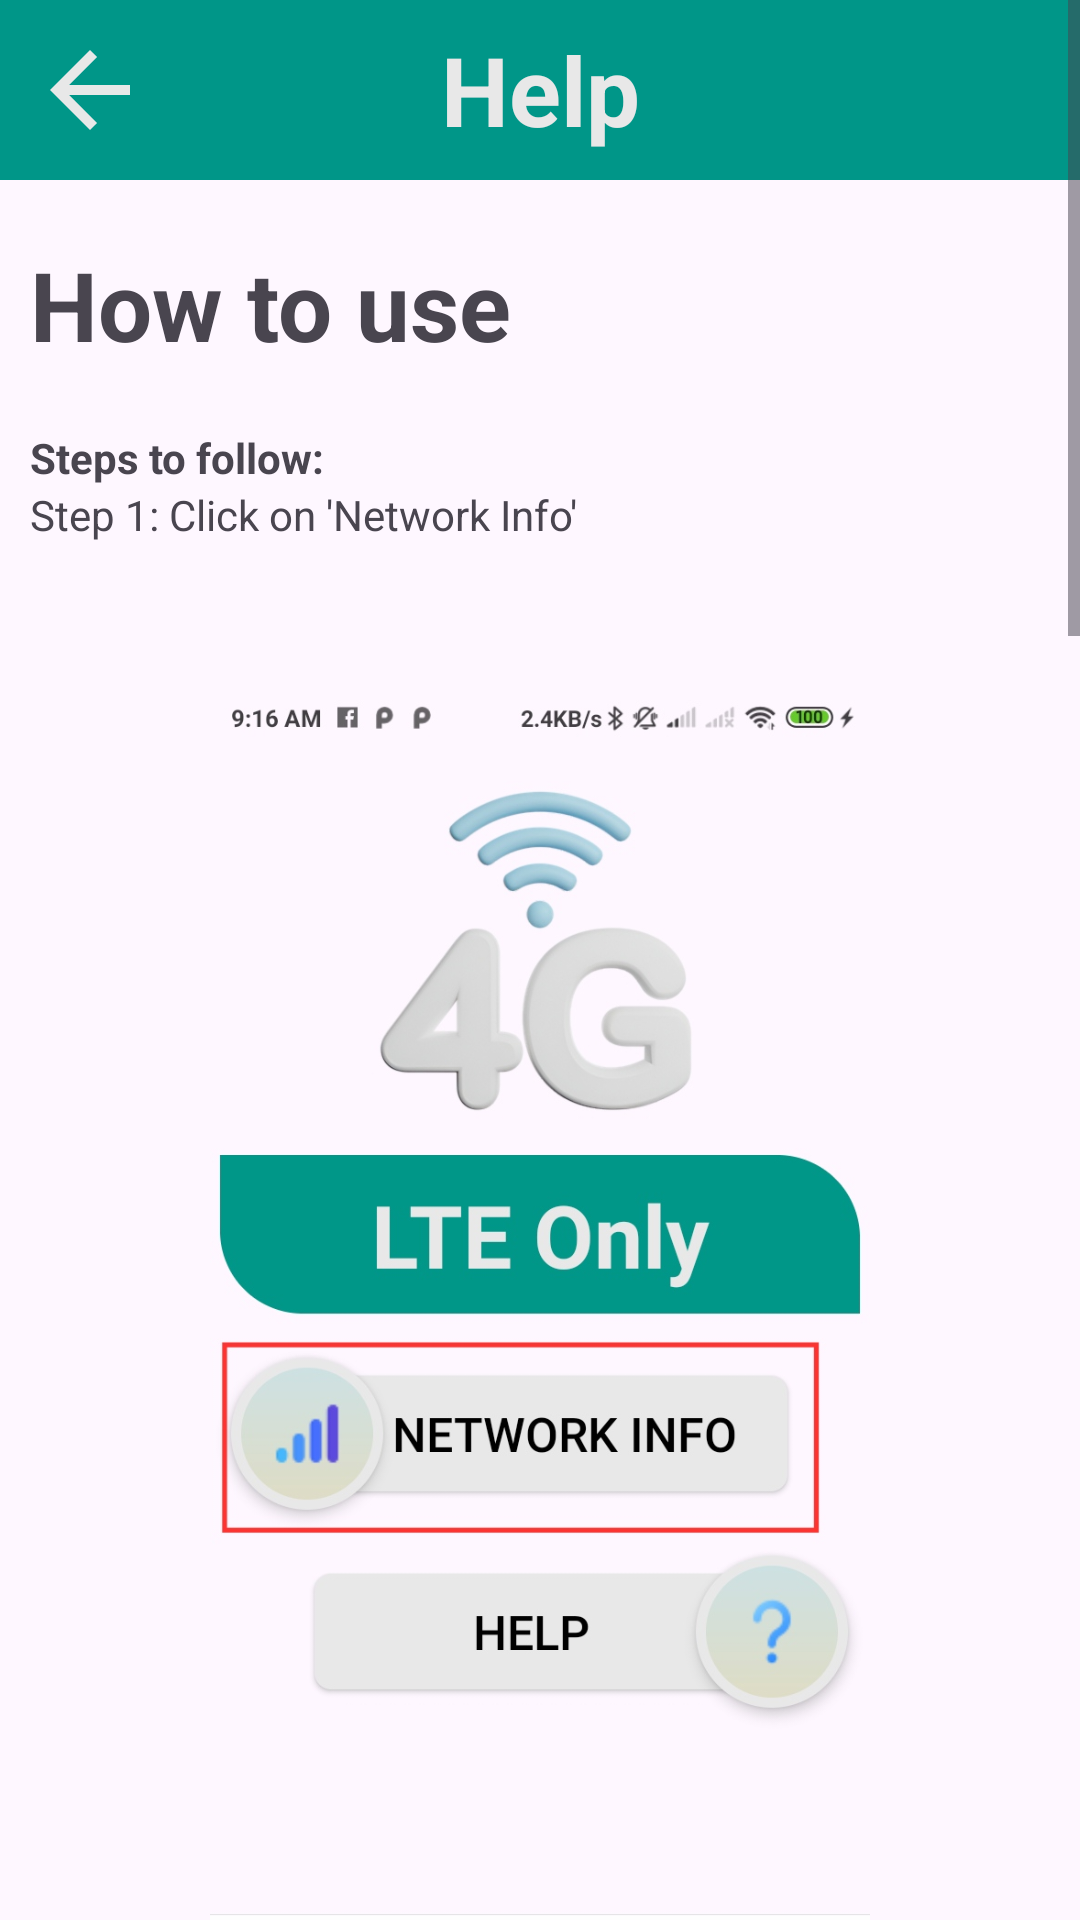

Icon click points for this 1080w x 1920h phone screenshot, format [x,y]:
arrow back: [90,90]
